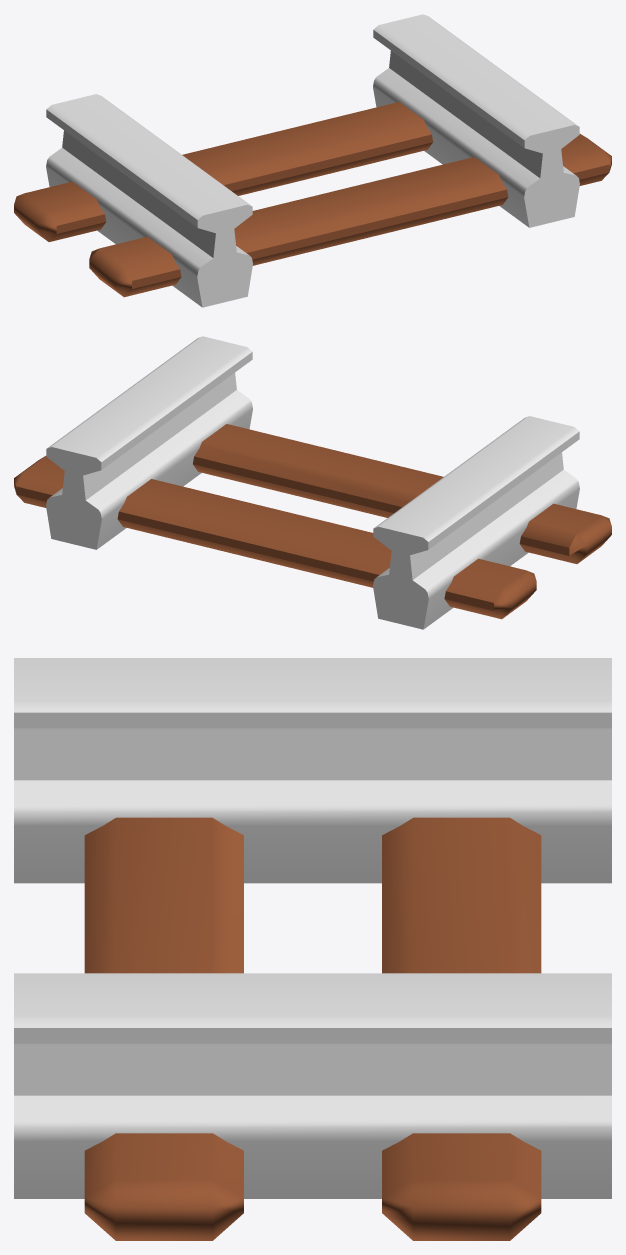
The model's file is Rail.fbx.
3 views of the same model, one above another, from view 1: azimuth 30°, elevation 25°; view 2: azimuth 150°, elevation 25°; view 3: azimuth 270°, elevation 25° (orthographic). The views are drawn at different scales.
Parts seen in each view (by area): view 1: _0c1ee309ae74d09a7051b4653fe364f_obj_cleaner_gles; view 2: _0c1ee309ae74d09a7051b4653fe364f_obj_cleaner_gles; view 3: _0c1ee309ae74d09a7051b4653fe364f_obj_cleaner_gles.
Boxes of the visible parts, box(x1,y1,x2,y2) form: _0c1ee309ae74d09a7051b4653fe364f_obj_cleaner_gles: box(14, 14, 611, 307); _0c1ee309ae74d09a7051b4653fe364f_obj_cleaner_gles: box(14, 336, 611, 629); _0c1ee309ae74d09a7051b4653fe364f_obj_cleaner_gles: box(14, 658, 611, 1240).
Size of the model in its own units: 10289 by 1816 by 5409.
